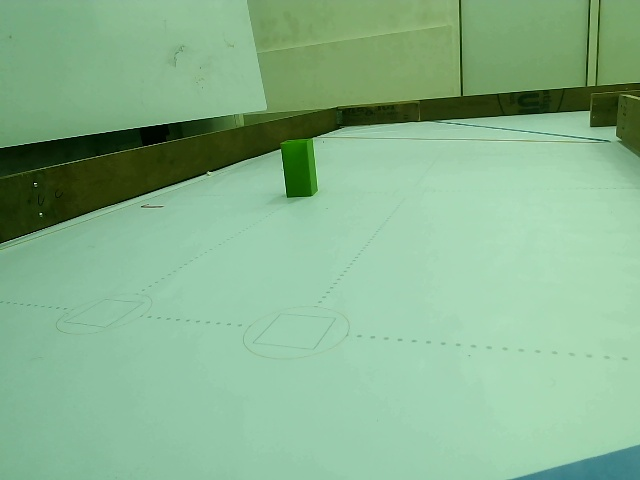green: (282, 137, 318, 196)
